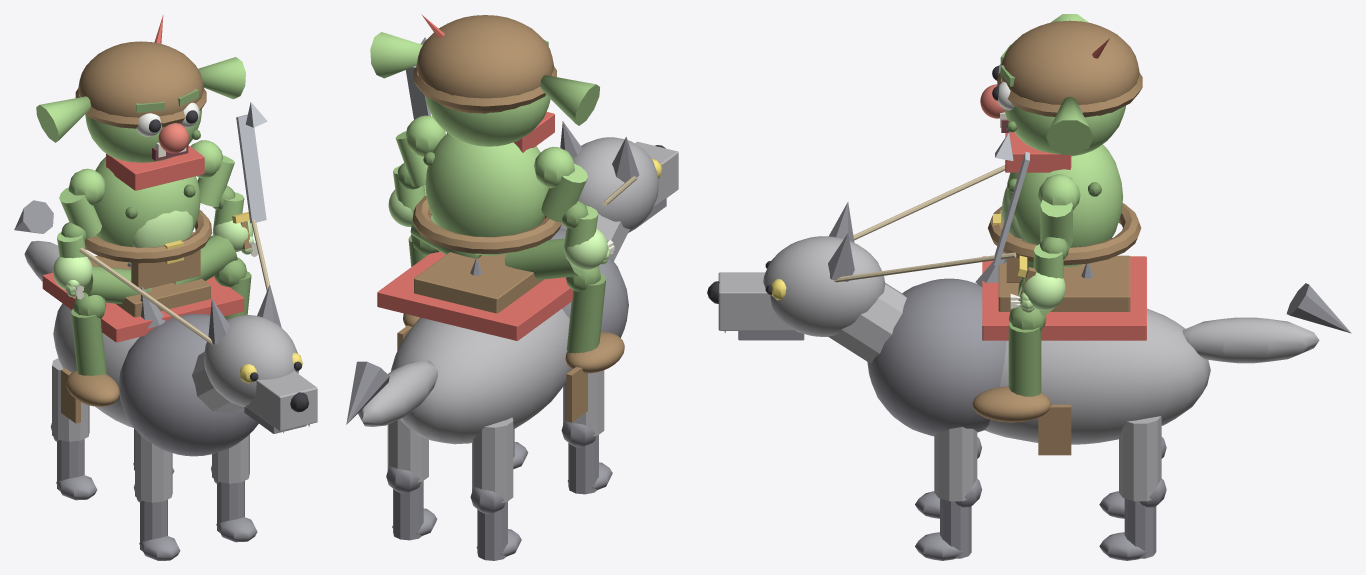
File: troll_wolfrider.glb
3 views of the same model, side by side, from view 1: azimuth 30°, elevation 25°; view 2: azimuth 150°, elevation 25°; view 3: azimuth 270°, elevation 25° (orthographic). The views are drawn at different scales.
Parts seen in each view (by area): view 1: Wolf_Ruff, WolfRider_Cap, Wolf_Head, WolfRider_Body, Wolf_Blanket, Wolf_Snout, Wolf_Body, WolfRider_Scarf, WolfRider_Belt, Wolf_UpperLeg, WolfRider_Head, Wolf_Saddle (+38 smaller); view 2: Wolf_Body, WolfRider_Body, WolfRider_Cap, Wolf_Blanket, Wolf_Saddle, Wolf_Head, WolfRider_Head, Wolf_Tail, WolfRider_Belt, Wolf_UpperLeg.002, WolfRider_Shin, WolfRider_Thigh (+31 smaller); view 3: Wolf_Body, Wolf_Ruff, WolfRider_Cap, Wolf_Head, WolfRider_Body, Wolf_Blanket, Wolf_Tail, Wolf_Saddle, Wolf_UpperLeg.003, Wolf_Snout, Wolf_UpperLeg.001, Wolf_Neck (+21 smaller).
Boxes of the visible parts, bbox=[...] form: Wolf_Ruff: bbox=[118, 313, 258, 456]; WolfRider_Cap: bbox=[78, 41, 203, 117]; Wolf_Head: bbox=[204, 315, 298, 407]; WolfRider_Body: bbox=[93, 157, 200, 263]; Wolf_Blanket: bbox=[42, 272, 244, 342]; Wolf_Snout: bbox=[245, 371, 317, 431]; Wolf_Body: bbox=[53, 303, 139, 427]; WolfRider_Scarf: bbox=[106, 145, 204, 190]; WolfRider_Belt: bbox=[85, 210, 212, 263]; Wolf_UpperLeg: bbox=[135, 429, 172, 502]; WolfRider_Head: bbox=[85, 109, 201, 162]; Wolf_Saddle: bbox=[88, 255, 210, 317]; Wolf_Body: bbox=[391, 309, 571, 444]; WolfRider_Body: bbox=[425, 133, 548, 255]; WolfRider_Cap: bbox=[416, 15, 553, 113]; Wolf_Blanket: bbox=[377, 251, 573, 340]; Wolf_Saddle: bbox=[414, 252, 543, 313]; Wolf_Head: bbox=[573, 137, 658, 232]; WolfRider_Head: bbox=[425, 95, 550, 146]; Wolf_Tail: bbox=[358, 360, 438, 426]; WolfRider_Belt: bbox=[412, 195, 561, 253]; Wolf_UpperLeg.002: bbox=[472, 417, 513, 502]; WolfRider_Shin: bbox=[566, 273, 606, 353]; WolfRider_Thigh: bbox=[504, 238, 582, 279]; Wolf_Body: bbox=[985, 308, 1210, 444]; Wolf_Ruff: bbox=[867, 278, 1006, 436]; WolfRider_Cap: bbox=[1000, 20, 1139, 117]; Wolf_Head: bbox=[763, 236, 885, 336]; WolfRider_Body: bbox=[1007, 144, 1122, 267]; Wolf_Blanket: bbox=[982, 256, 1146, 340]; Wolf_Tail: bbox=[1182, 317, 1319, 363]; Wolf_Saddle: bbox=[998, 255, 1130, 311]; Wolf_UpperLeg.003: bbox=[1119, 416, 1161, 501]; Wolf_Snout: bbox=[718, 272, 795, 330]; Wolf_UpperLeg.001: bbox=[934, 427, 977, 501]; Wolf_Neck: bbox=[828, 282, 906, 363].
Size of the model in its own units: 0.7633 by 1.75 by 1.96.
